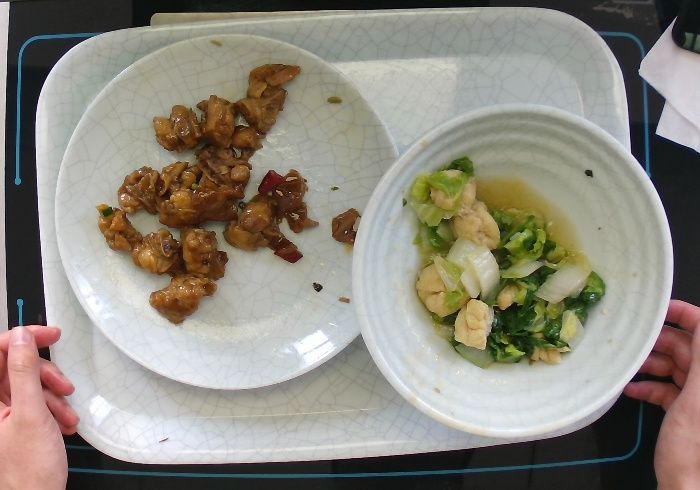JYsf-Da_Tang_Wan: (348, 100, 676, 443)
JYsf-Da_Yuan_Pan: (50, 31, 403, 392)
